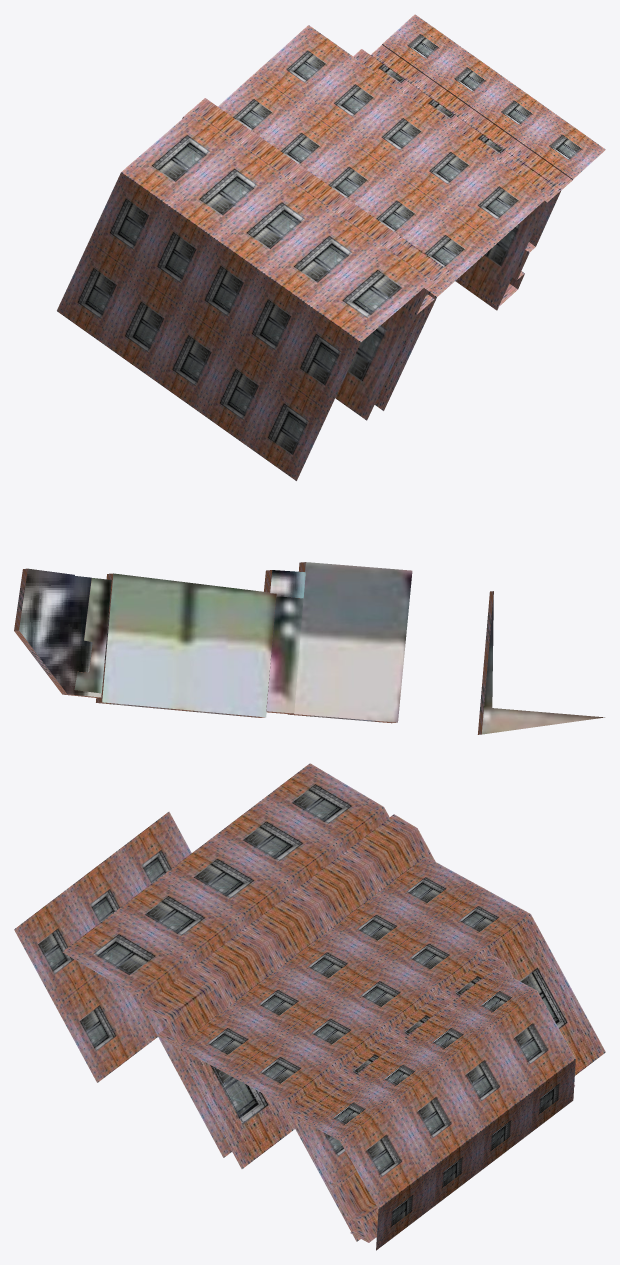
3 renders of one model, top to bottom at view 1: azimuth 30°, elevation 25°; view 2: azimuth 150°, elevation 25°; view 3: azimuth 270°, elevation 25°, orthographic. The views are drawn at different scales.
Size of the model in its own units: 40.87 by 17.41 by 28.79.
Materials: 26 (26 with a texture image).
